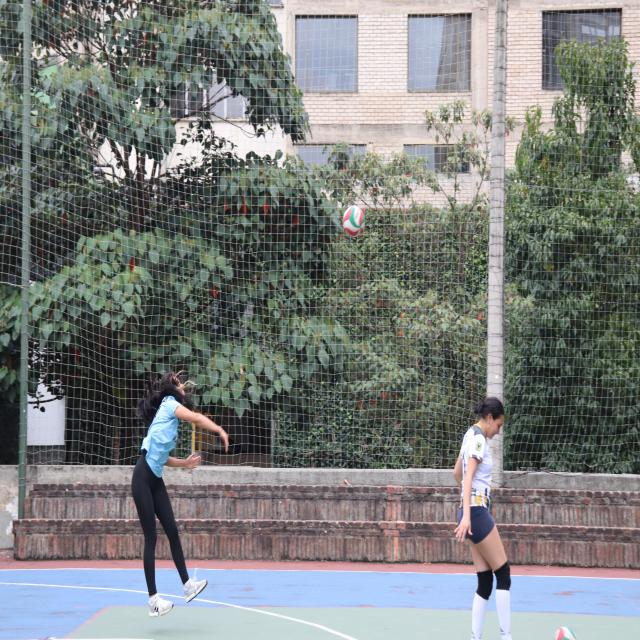volleyball: (343, 203, 366, 240)
